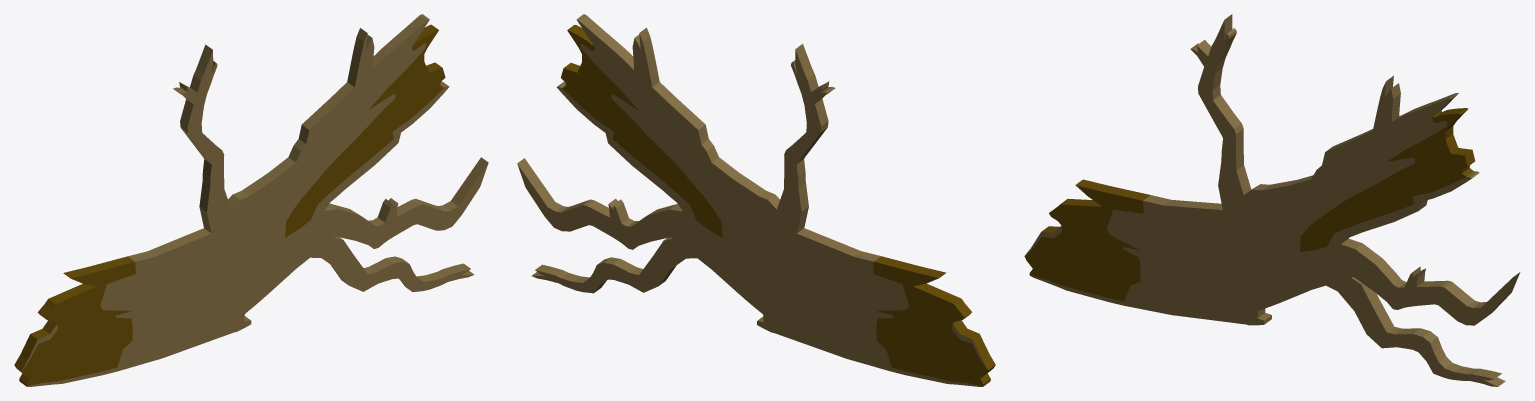
Rendered from Wood_Log_5.fbx.
3 views of the same model, side by side, from view 1: azimuth 30°, elevation 25°; view 2: azimuth 150°, elevation 25°; view 3: azimuth 330°, elevation 25° (orthographic). The views are drawn at different scales.
Parts seen in each view (by area): view 1: pPlane14; view 2: pPlane14; view 3: pPlane14.
Boxes of the visible parts, x1=… form: pPlane14: x1=14, y1=14, x2=488, y2=386; pPlane14: x1=517, y1=14, x2=995, y2=386; pPlane14: x1=1024, y1=14, x2=1520, y2=386.
Bounding box in the file's own units: 4.58 × 2.79 × 0.148.
